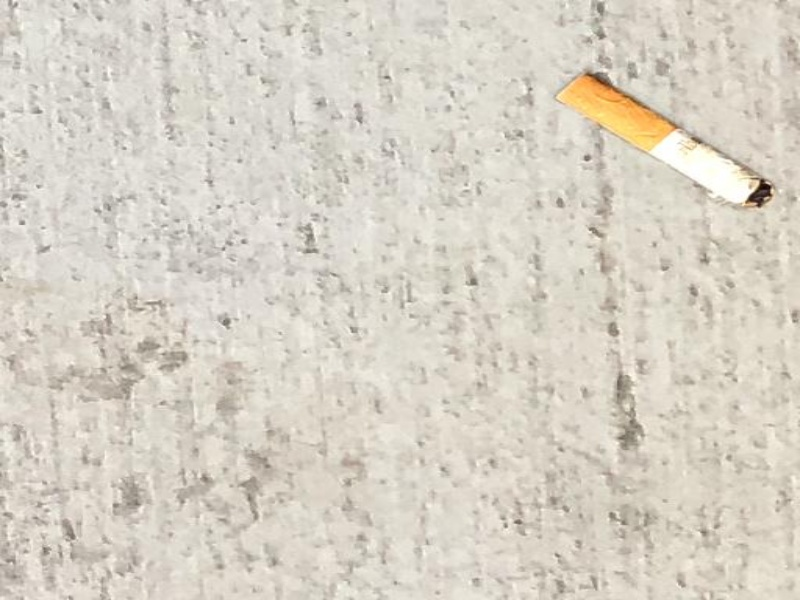cig: (557, 66, 781, 220)
